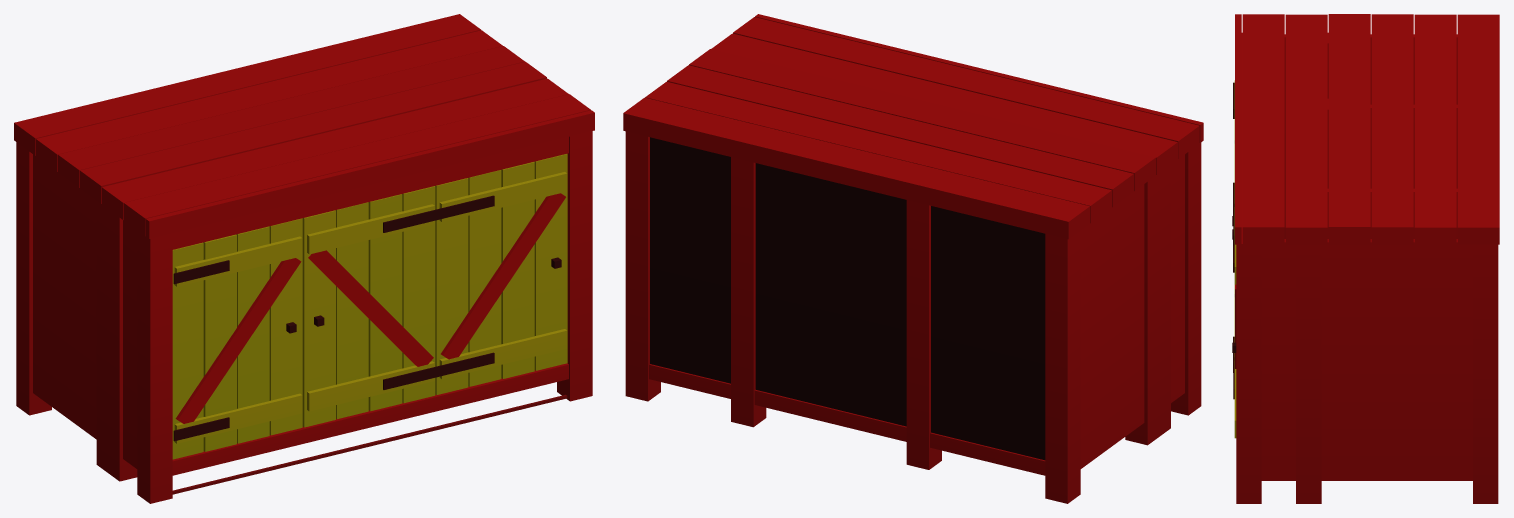
The model's file is stand_rustic.glb.
The picture shows the model from 3 angles, left to right: view 1: azimuth 30°, elevation 25°; view 2: azimuth 150°, elevation 25°; view 3: azimuth 270°, elevation 25°; orthographic projection. The views are drawn at different scales.
Visible parts, largest first — view 1: display_120, nano_cube_20, rimless_40, long_reef_60; view 2: display_120, long_reef_60, rimless_40, nano_cube_20; view 3: display_120, rimless_40, long_reef_60, nano_cube_20.
Boxes of the visible parts, x1,y1,x2,y2 form: display_120: [14, 14, 594, 503]; nano_cube_20: [15, 82, 271, 471]; rimless_40: [16, 40, 436, 198]; long_reef_60: [102, 79, 548, 481]; display_120: [623, 14, 1203, 503]; long_reef_60: [625, 38, 1170, 475]; rimless_40: [728, 72, 1168, 473]; nano_cube_20: [904, 114, 1157, 475]; display_120: [1232, 14, 1499, 503]; rimless_40: [1294, 14, 1499, 238]; long_reef_60: [1294, 14, 1498, 503]; nano_cube_20: [1314, 14, 1499, 188].
Size of the model in its own units: 129 by 78.39 by 68.35.
